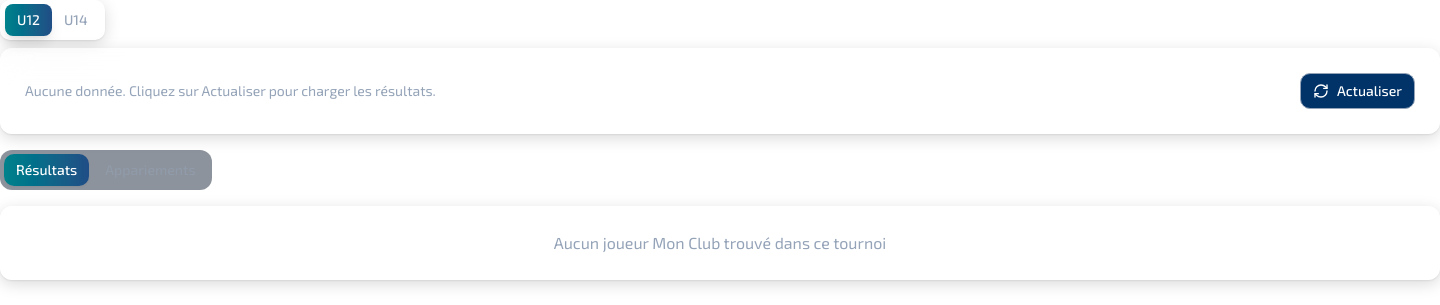
Test: TournamentTabs › Phase 2: Fetch Results (with clubName) › shows loading state during refresh
The image size is (1440, 305).
Click the button "Actualiser" at (1357, 91), box [1300,73,1415,109]
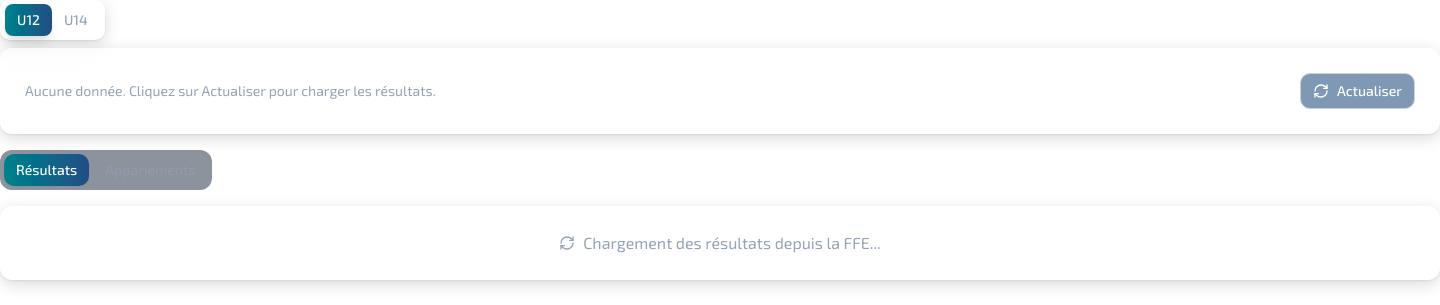
expect the button "Actualiser" is disabled: met, box [1300,73,1415,109]
